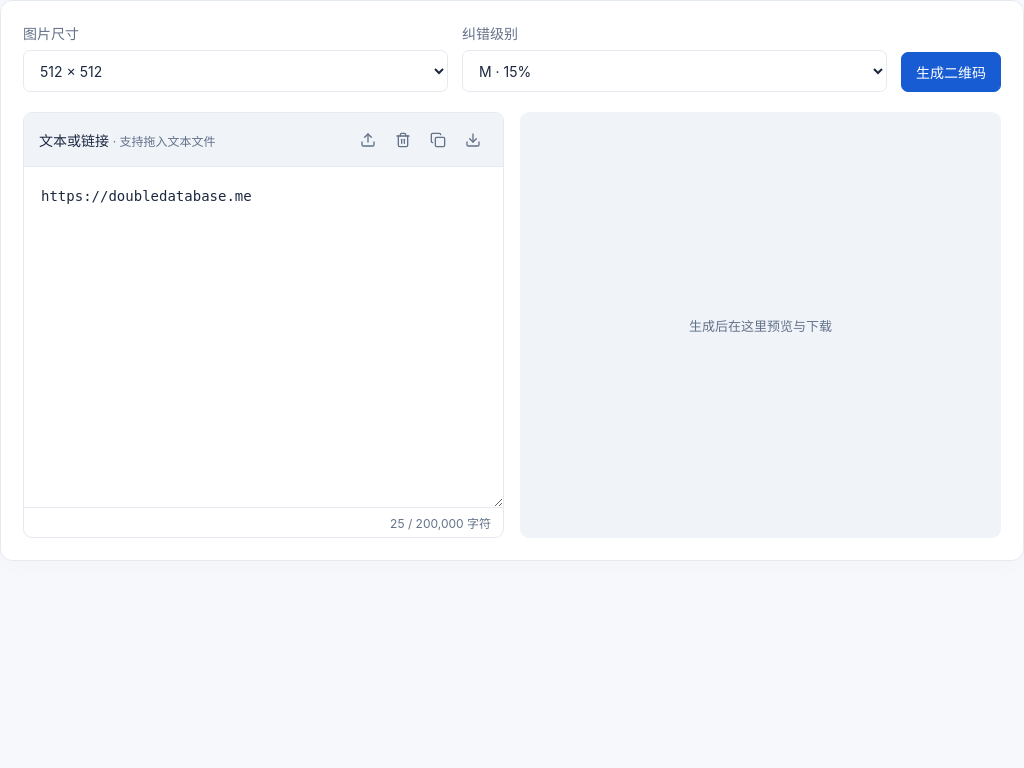
QR creates a downloadable image and rejects empty input
Click the button "生成二维码" at (951, 72), box [901, 52, 1001, 92]
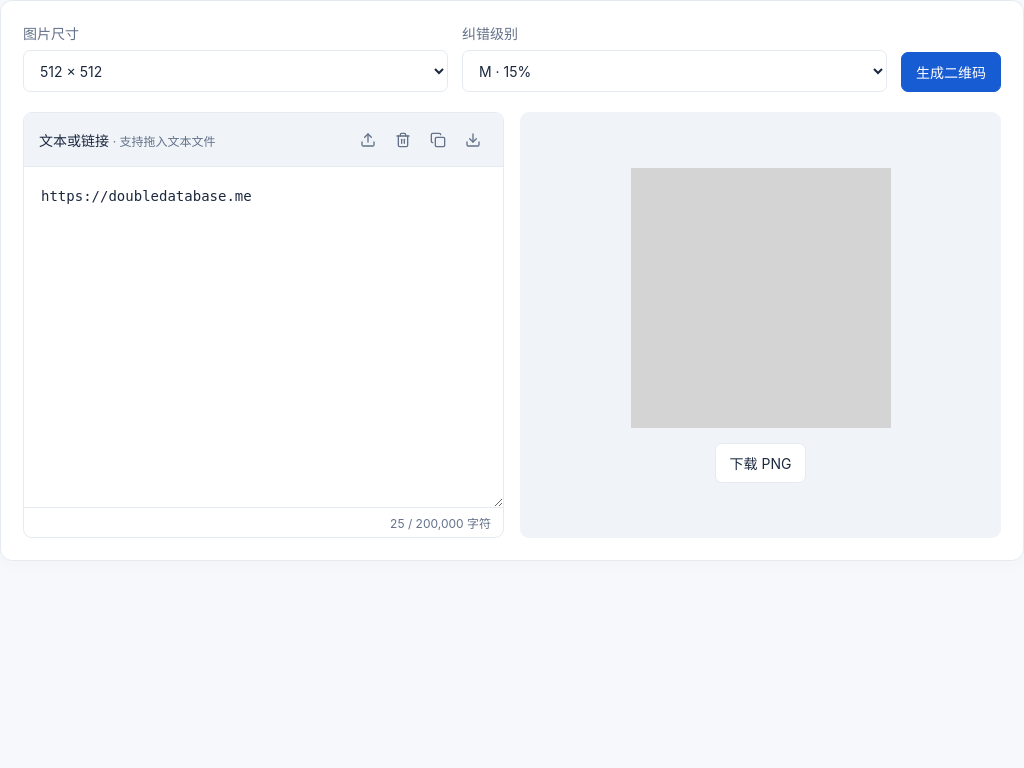
Clear the text box named "文本或链接" at (264, 337), box [24, 167, 503, 507]
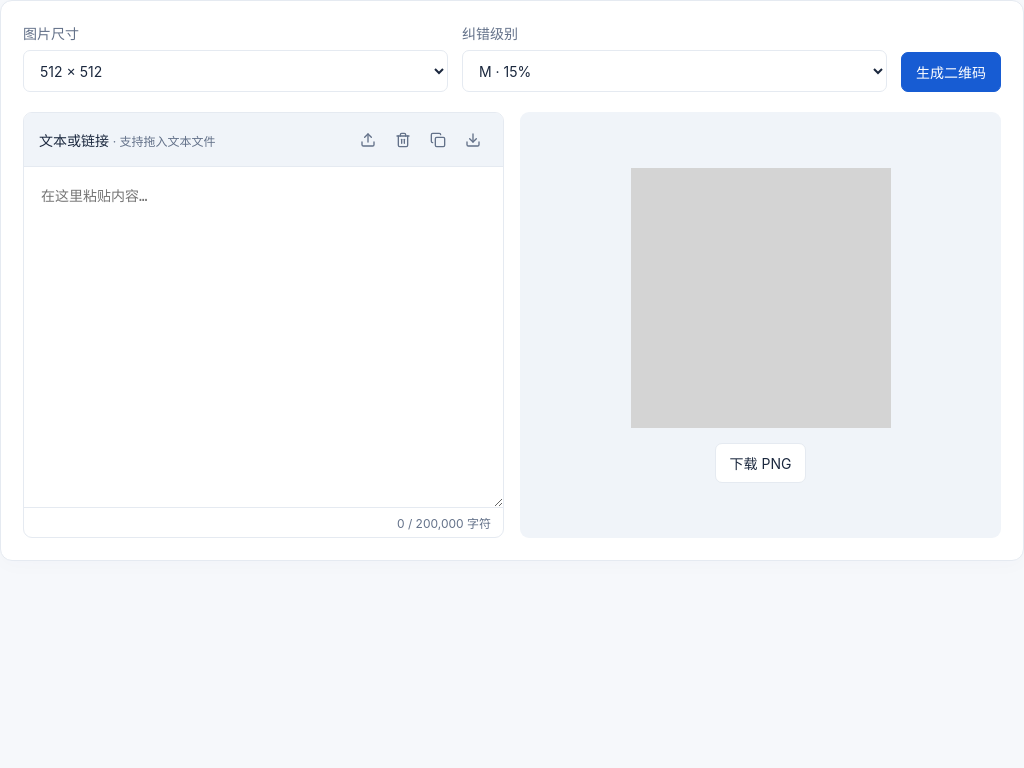
Click the button "生成二维码" at (951, 72), box [901, 52, 1001, 92]
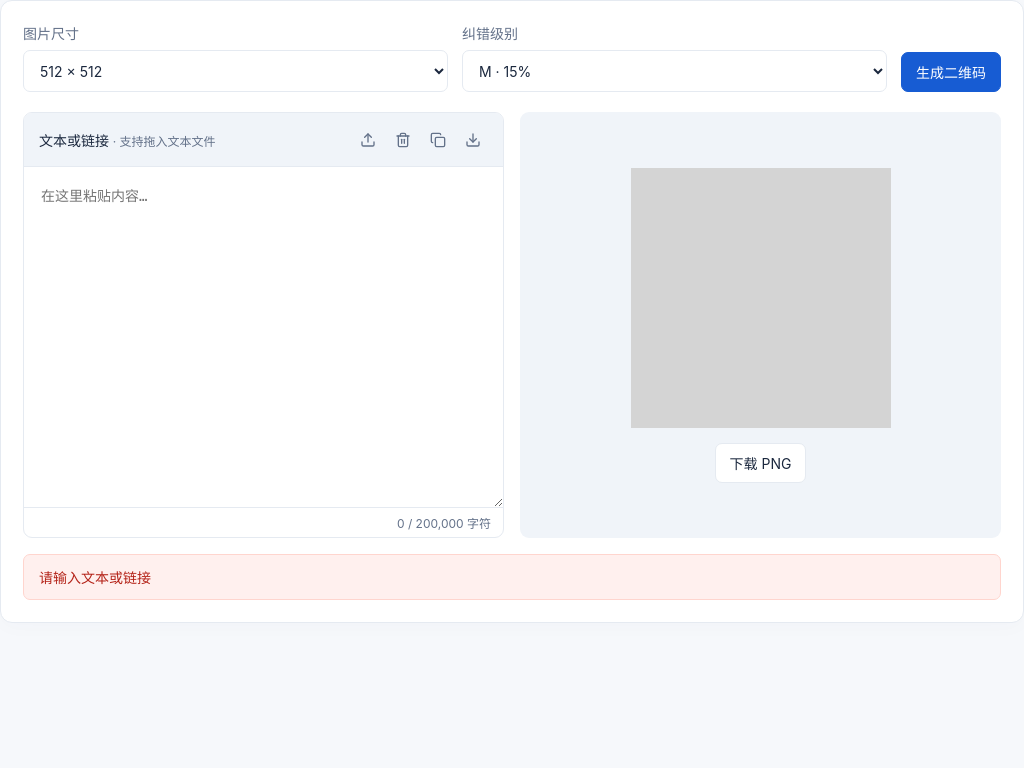
Result: the message shows "请输入" at [23, 554, 1001, 600]
